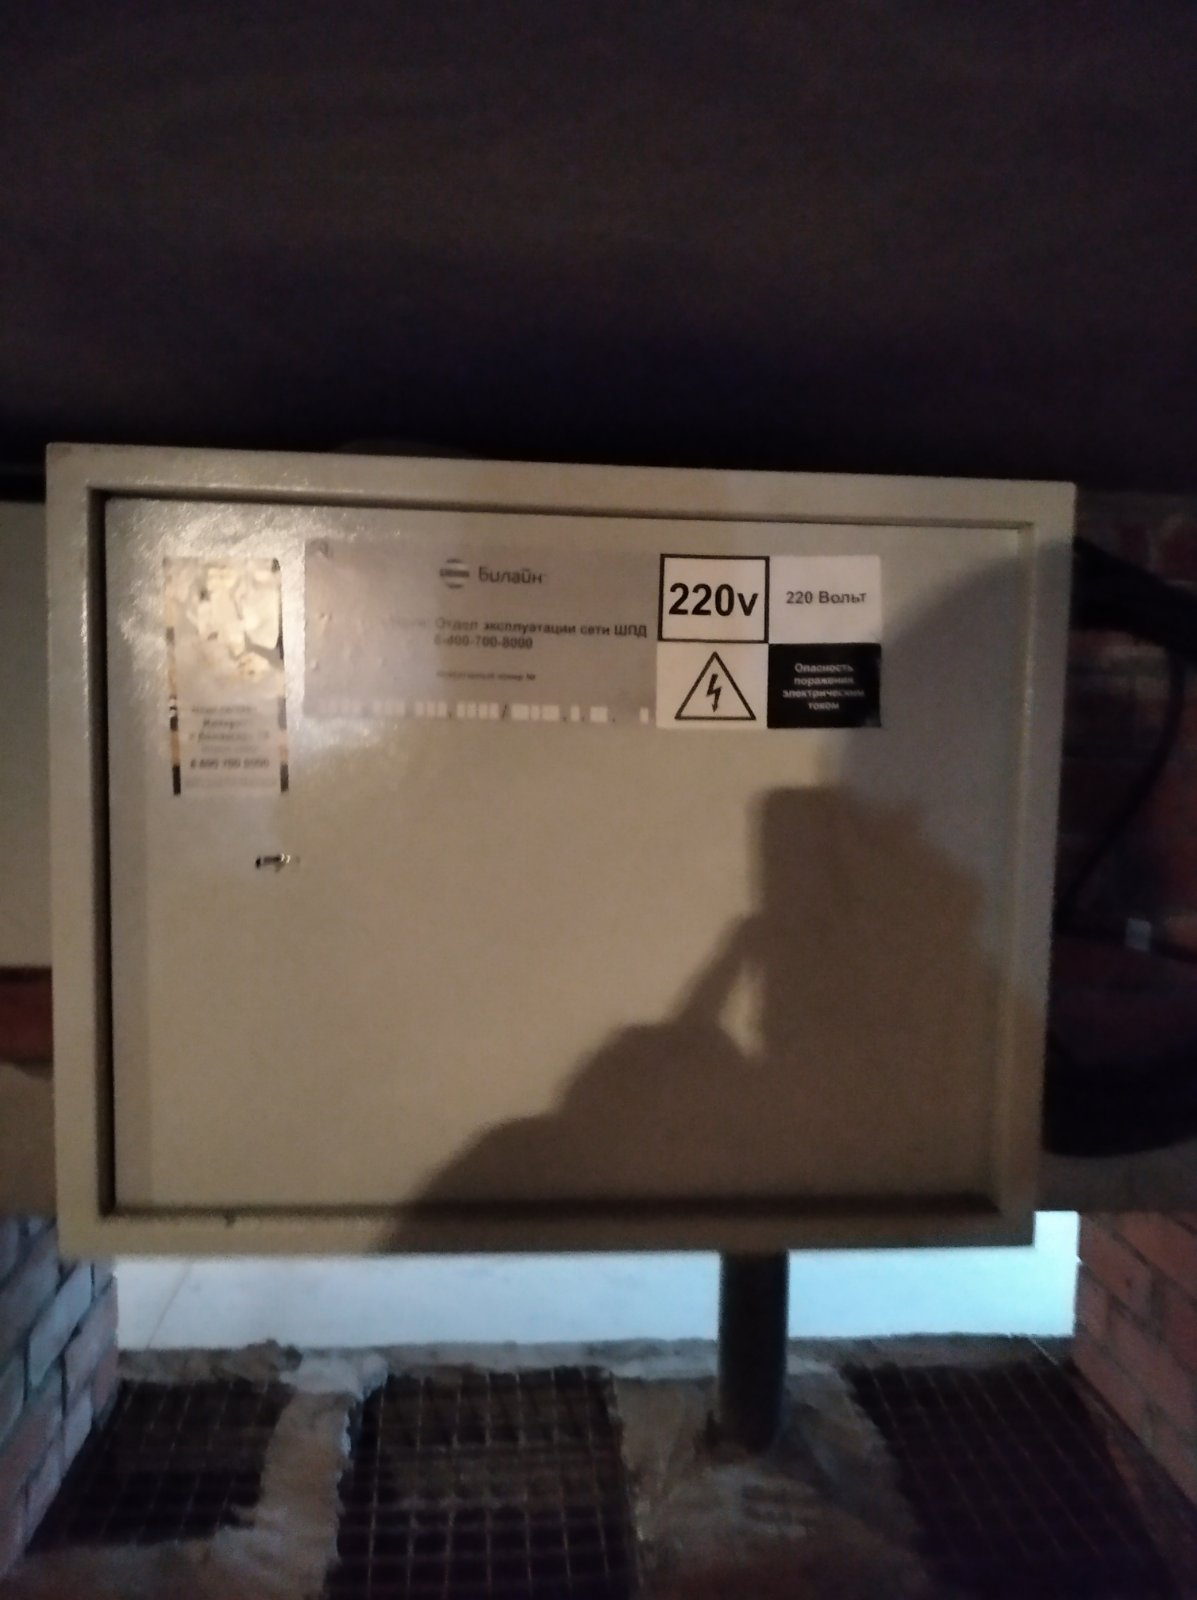shta-9m: (21, 411, 1099, 1286)
